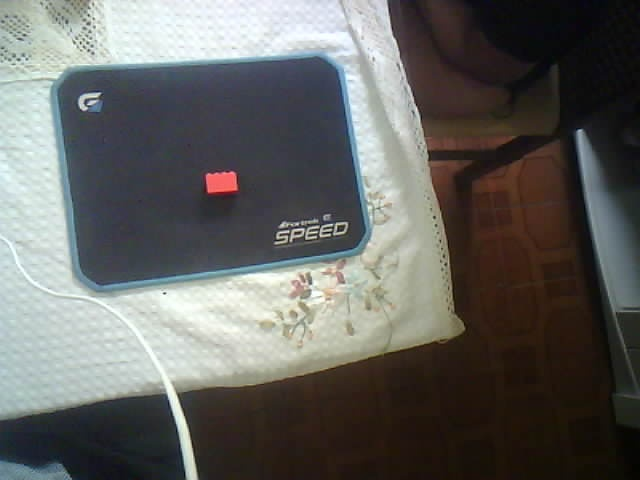lego: (202, 170, 240, 195)
